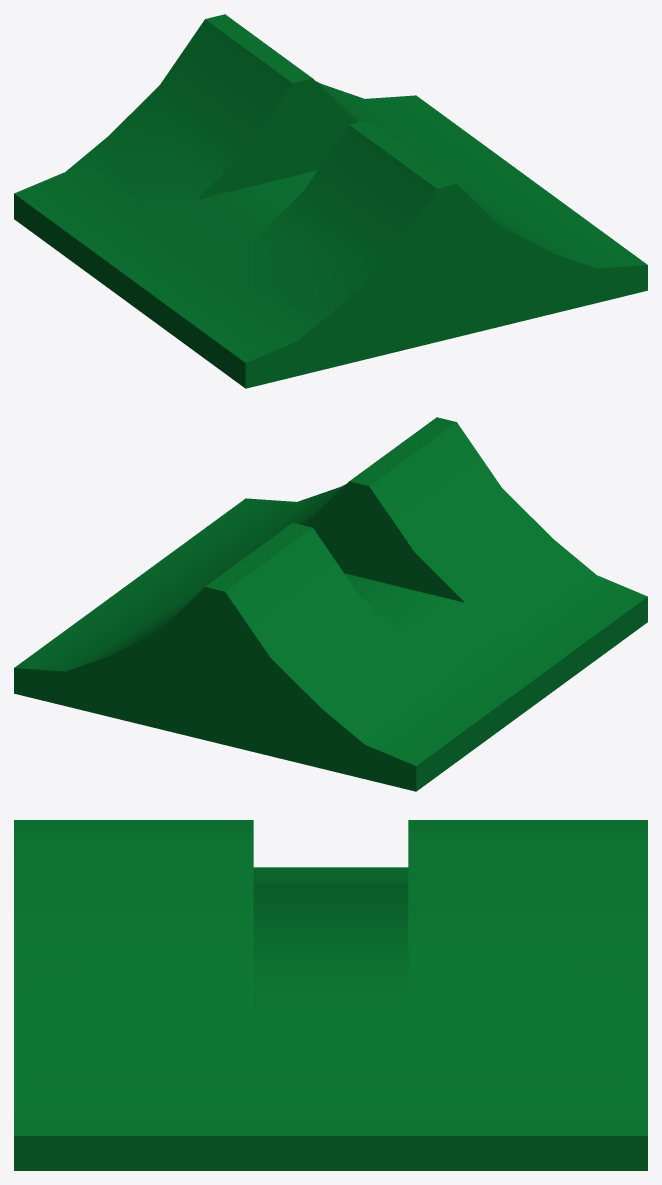
Rendered from basic_duopath.gltf.
3 renders of one model, top to bottom at view 1: azimuth 30°, elevation 25°; view 2: azimuth 150°, elevation 25°; view 3: azimuth 270°, elevation 25°, orthographic. The views are drawn at different scales.
Visible parts, largest first — view 1: basic_duopath_glb; view 2: basic_duopath_glb; view 3: basic_duopath_glb.
Part boxes in pixels (bbox=[...]): basic_duopath_glb: bbox=[14, 14, 647, 388]; basic_duopath_glb: bbox=[14, 417, 647, 791]; basic_duopath_glb: bbox=[14, 820, 647, 1170].
Bounding box in the file's own units: 4 × 1.46 × 3.99.
Materials: 1 (1 with a texture image).
